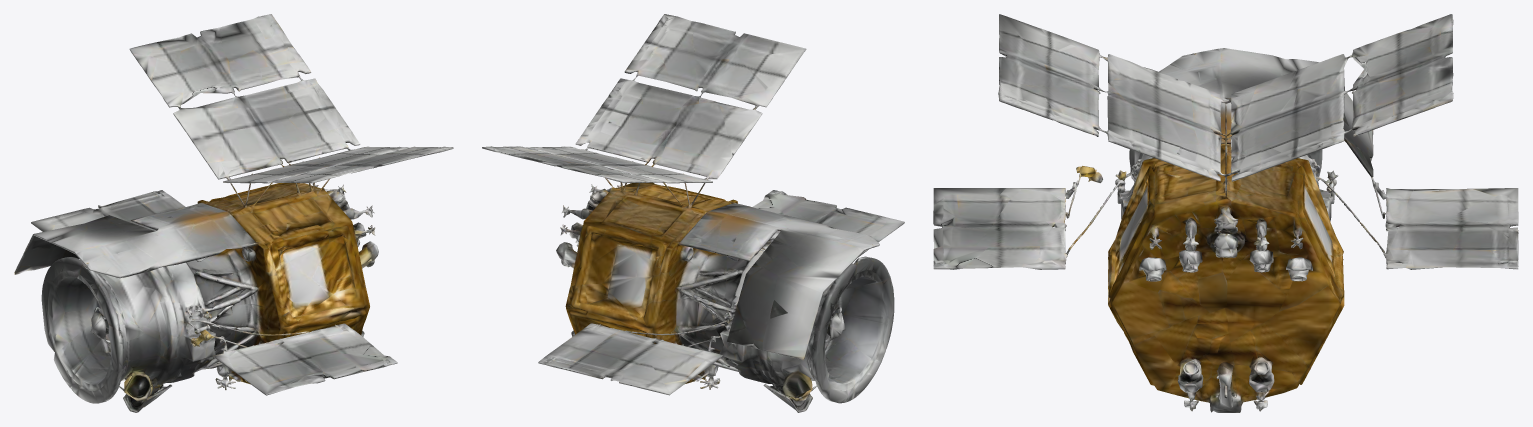
File: akari-low.glb
The picture shows the model from 3 angles, left to right: view 1: azimuth 30°, elevation 25°; view 2: azimuth 150°, elevation 25°; view 3: azimuth 270°, elevation 25°; orthographic projection. The views are drawn at different scales.
Size of the model in its own units: 1.35 by 1.22 by 1.9.
Materials: 1 (1 with a texture image).
